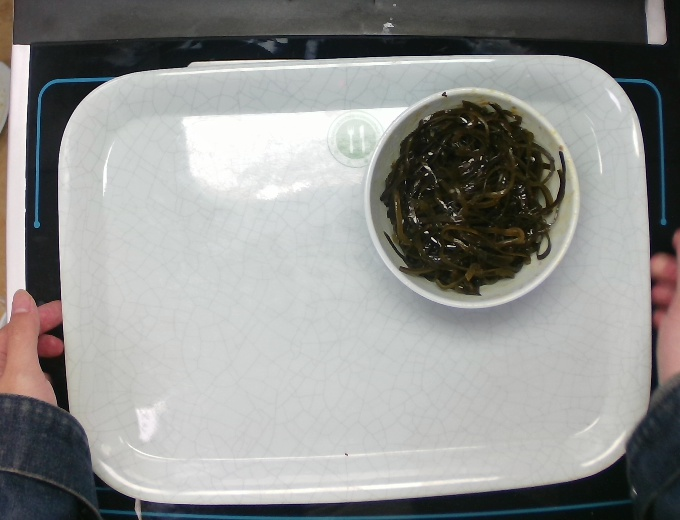JYsf-Fan_Wan: (363, 83, 594, 325)
